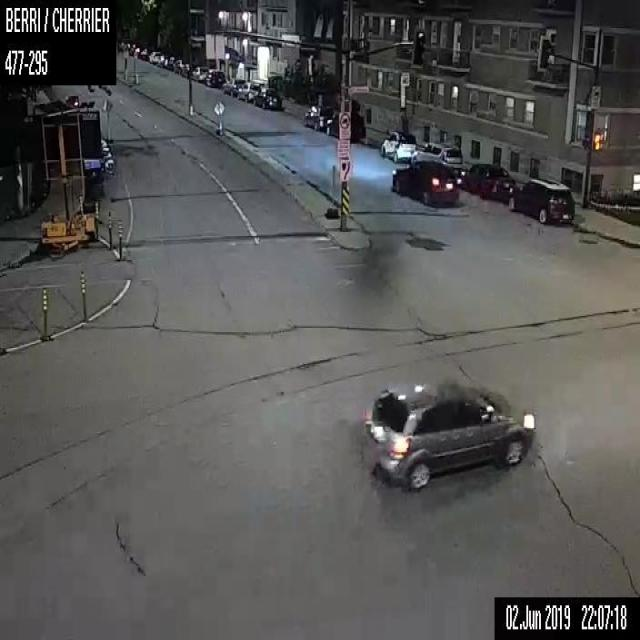construction: (16, 95, 103, 264), (326, 164, 338, 217), (212, 100, 225, 133), (80, 269, 86, 323), (107, 208, 113, 251), (117, 214, 122, 258), (43, 285, 46, 339)
vehicle: (363, 380, 534, 490), (392, 160, 457, 204), (508, 178, 574, 221), (460, 163, 514, 199), (411, 142, 462, 172), (381, 131, 416, 161), (326, 112, 366, 138), (303, 105, 333, 129), (252, 86, 281, 107), (237, 82, 260, 102), (222, 78, 245, 96), (204, 68, 223, 86), (180, 62, 196, 78), (192, 66, 209, 80), (173, 58, 186, 72), (165, 56, 178, 70), (149, 51, 160, 63), (140, 48, 152, 58), (134, 46, 140, 56)
